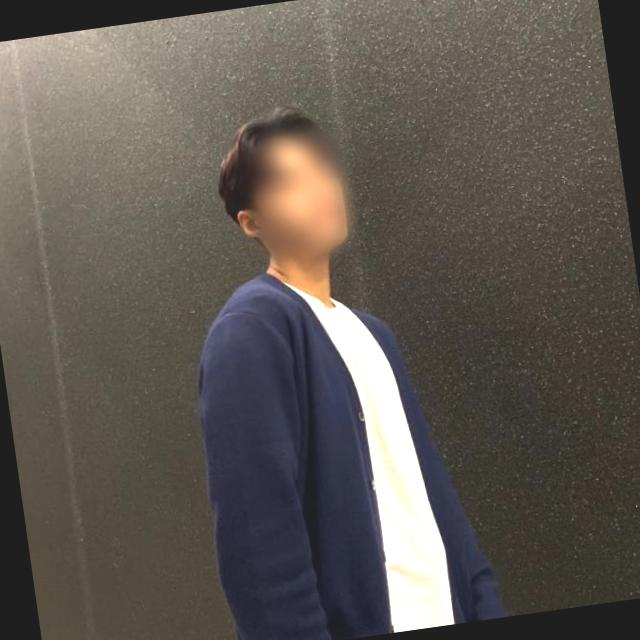cardigan: (174, 236, 520, 640)
